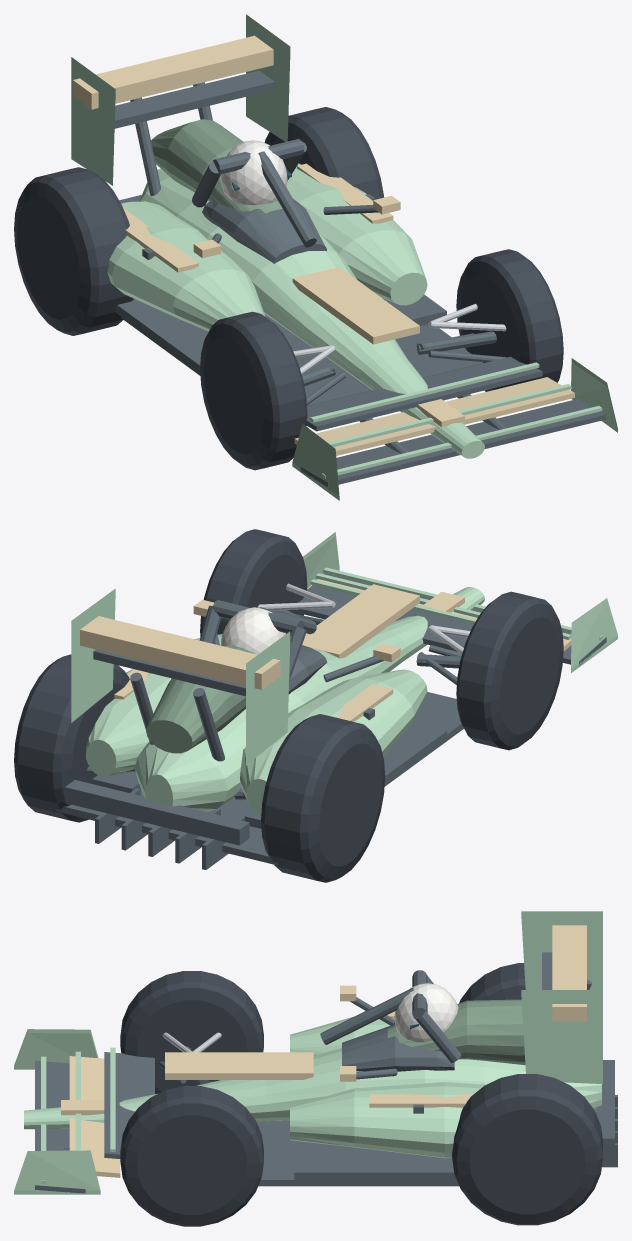
The model's file is jaguar_high.glb.
3 views of the same model, one above another, from view 1: azimuth 30°, elevation 25°; view 2: azimuth 150°, elevation 25°; view 3: azimuth 270°, elevation 25° (orthographic). The views are drawn at different scales.
Parts seen in each view (by area): view 1: BODY_paint, BODY_carbon, BODY_accent, RearLeftWheel_rubber, FrontLeftWheel_rubber, FrontRightWheel_rubber, RearRightWheel_rubber, BODY_paint_dark, BODY_helmet, BODY_metal; view 2: BODY_paint, BODY_carbon, RearLeftWheel_rubber, BODY_accent, FrontLeftWheel_rubber, RearRightWheel_rubber, FrontRightWheel_rubber, BODY_paint_dark, BODY_helmet, BODY_metal; view 3: BODY_paint, BODY_carbon, RearRightWheel_rubber, FrontRightWheel_rubber, BODY_accent, FrontLeftWheel_rubber, BODY_paint_dark, BODY_helmet, RearLeftWheel_rubber.
Part boxes in pixels (x1,y1,x2,y2): BODY_paint: (71,14,617,500); BODY_carbon: (114,70,605,486); BODY_accent: (73,35,574,455); RearLeftWheel_rubber: (14,167,133,335); FrontLeftWheel_rubber: (200,311,307,470); FrontRightWheel_rubber: (456,249,563,391); RearRightWheel_rubber: (264,107,384,199); BODY_paint_dark: (151,119,282,213); BODY_helmet: (220,140,287,204); BODY_metal: (293,303,506,374); BODY_paint: (71,532,617,815); BODY_carbon: (56,573,606,869); RearLeftWheel_rubber: (261,714,385,882); BODY_accent: (80,579,571,721); FrontLeftWheel_rubber: (456,591,563,750); RearRightWheel_rubber: (14,654,129,822); FrontRightWheel_rubber: (200,529,307,636); BODY_paint_dark: (146,645,256,753); BODY_helmet: (220,607,285,654); BODY_metal: (257,583,470,654); BODY_paint: (14,911,602,1194); BODY_carbon: (35,952,617,1193); RearRightWheel_rubber: (452,1074,602,1225); FrontRightWheel_rubber: (120,1086,263,1226); BODY_accent: (61,925,586,1177); FrontLeftWheel_rubber: (120,971,263,1093); BODY_paint_dark: (387,999,525,1065); BODY_helmet: (394,983,458,1042); RearLeftWheel_rubber: (459,963,525,1003).
Bounding box in the file's own units: 2.59 × 1.9 × 4.88.
